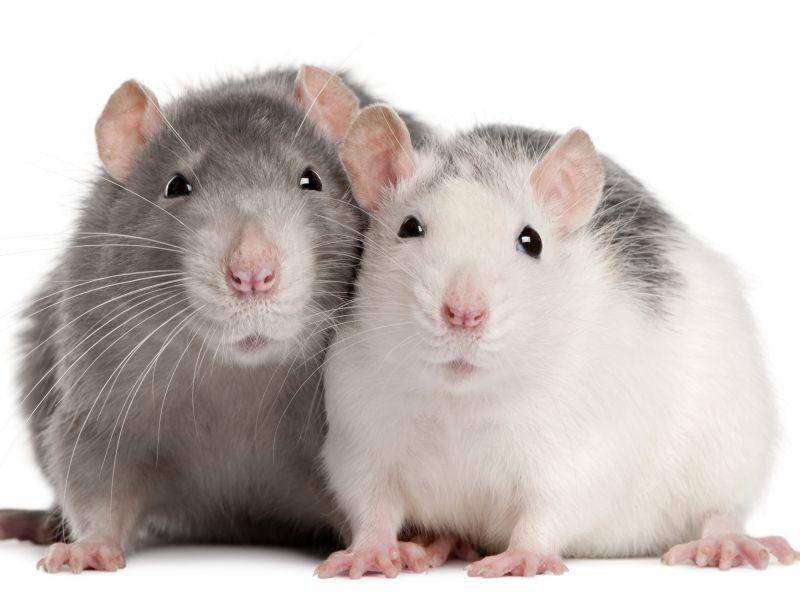rat: (308, 99, 780, 584), (57, 50, 415, 387)
